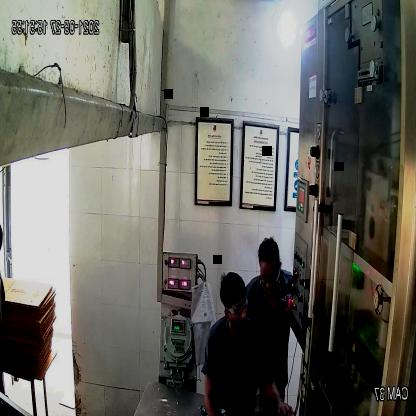goggles: (224, 295, 251, 318)
